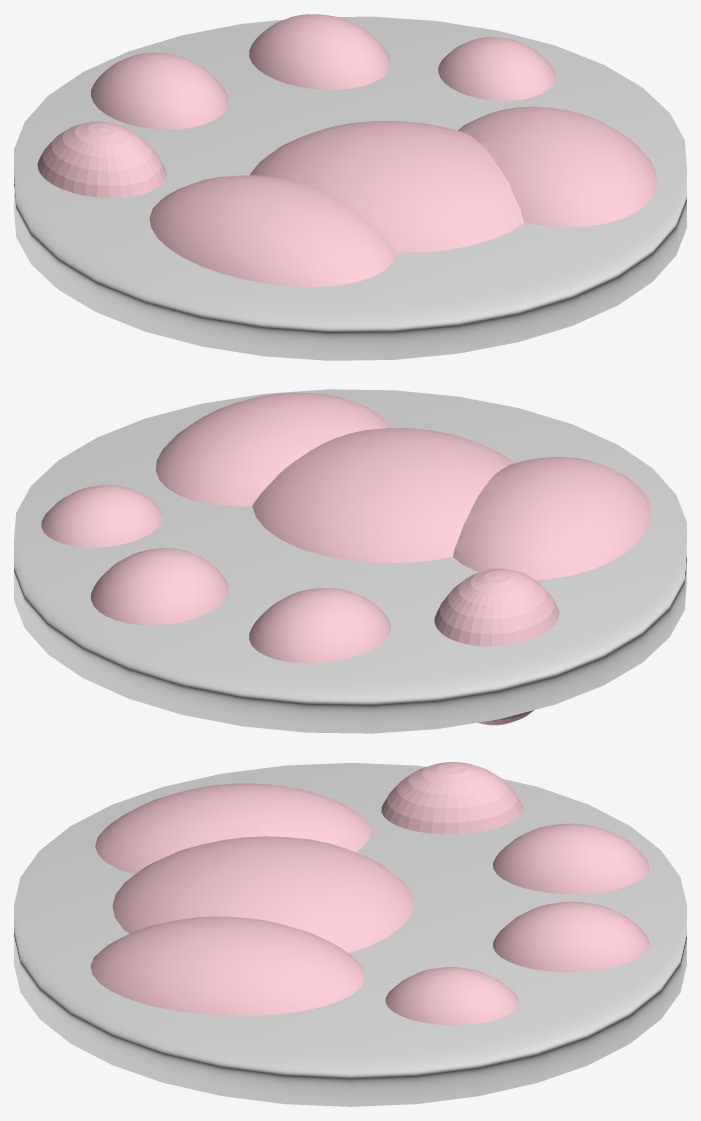
3 renders of one model, top to bottom at view 1: azimuth 30°, elevation 25°; view 2: azimuth 150°, elevation 25°; view 3: azimuth 270°, elevation 25°, orthographic.
Visible parts, largest first — view 1: base.001, punch.001; view 2: base.001, punch.001; view 3: base.001, punch.001.
Part boxes in pixels (x1,y1,x2,y2): base.001: [14, 16, 686, 360]; punch.001: [37, 14, 657, 286]; base.001: [14, 389, 686, 733]; punch.001: [41, 392, 651, 725]; base.001: [14, 763, 686, 1106]; punch.001: [90, 762, 649, 1025].
Size of the model in its own units: 0.1397 by 0.0333 by 0.1397.
2 materials, 1 textured.
